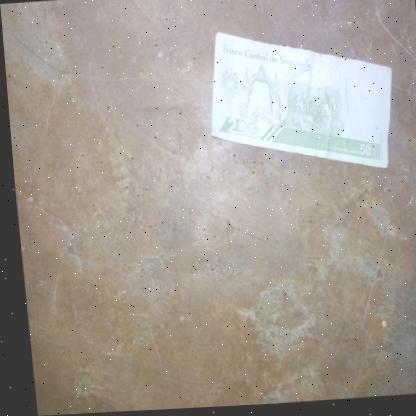fifty-back-vef: (199, 24, 399, 183)
